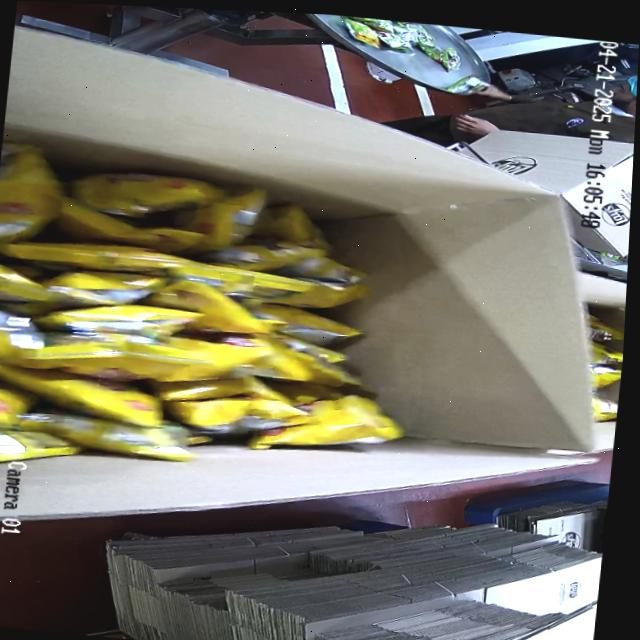SALTED: (0, 142, 400, 509)
